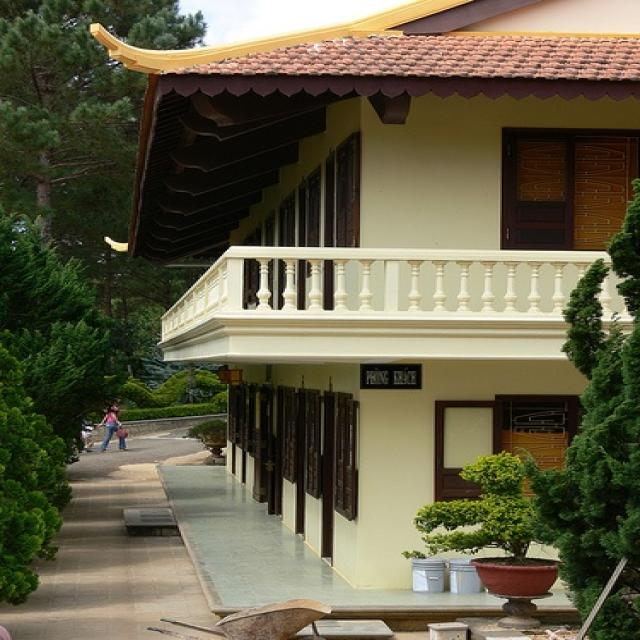person: (98, 404, 131, 454)
pottedplant: (402, 453, 563, 599)
